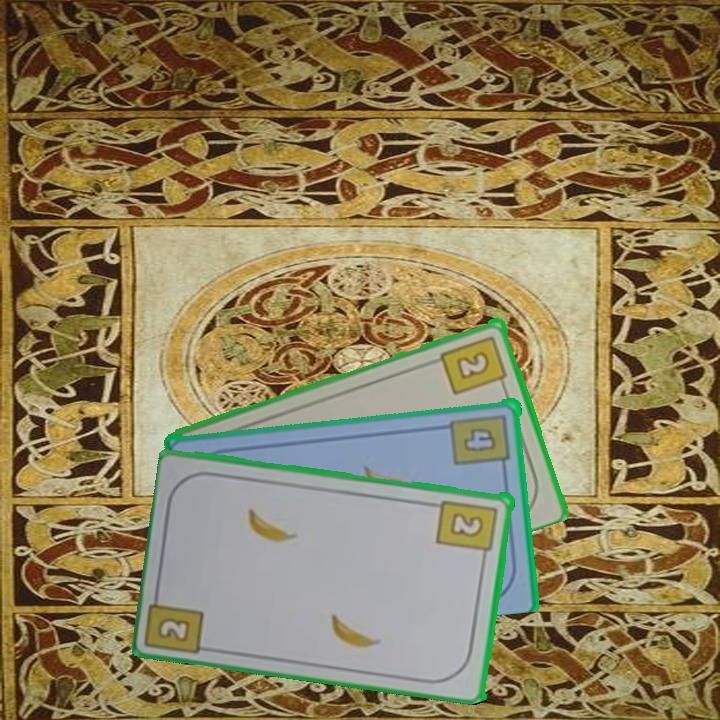2b: (437, 331, 510, 398), (434, 496, 501, 563), (157, 615, 194, 645)
4b: (448, 410, 514, 472)
